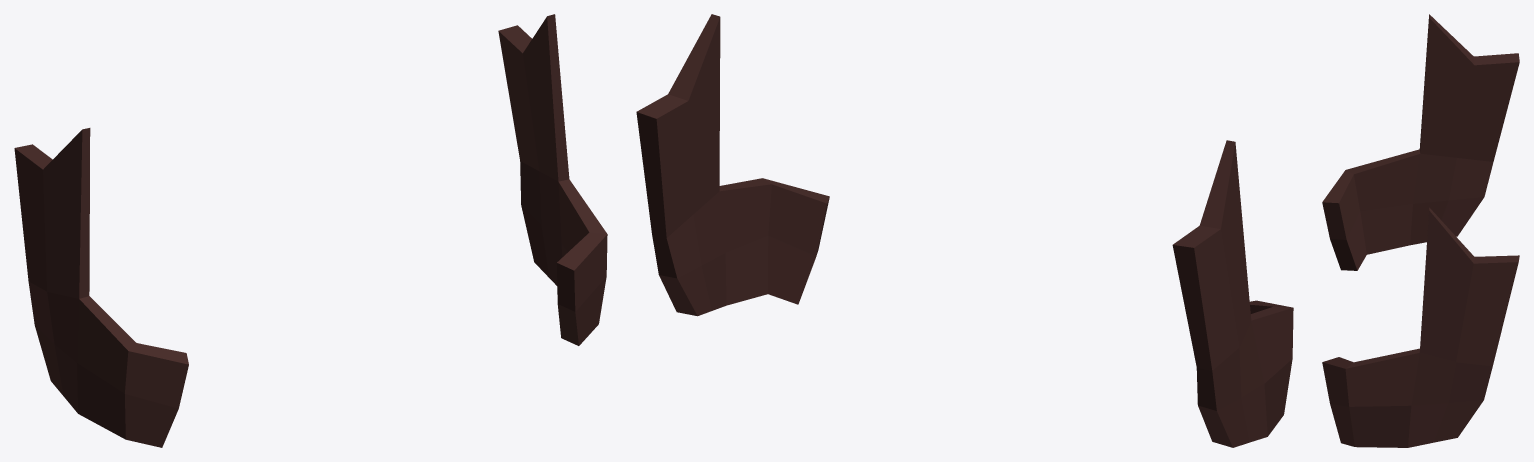
The model's file is sideburns.fbx.
3 views of the same model, side by side, from view 1: azimuth 30°, elevation 25°; view 2: azimuth 150°, elevation 25°; view 3: azimuth 270°, elevation 25° (orthographic). The views are drawn at different scales.
Parts seen in each view (by area): view 1: sideburns; view 2: sideburns; view 3: sideburns.
Boxes of the visible parts, bbox=[...] form: sideburns: bbox=[14, 14, 607, 447]; sideburns: bbox=[636, 14, 1293, 447]; sideburns: bbox=[1322, 14, 1519, 447].
Bounding box in the file's own units: 31.95 × 17.17 × 12.57.
